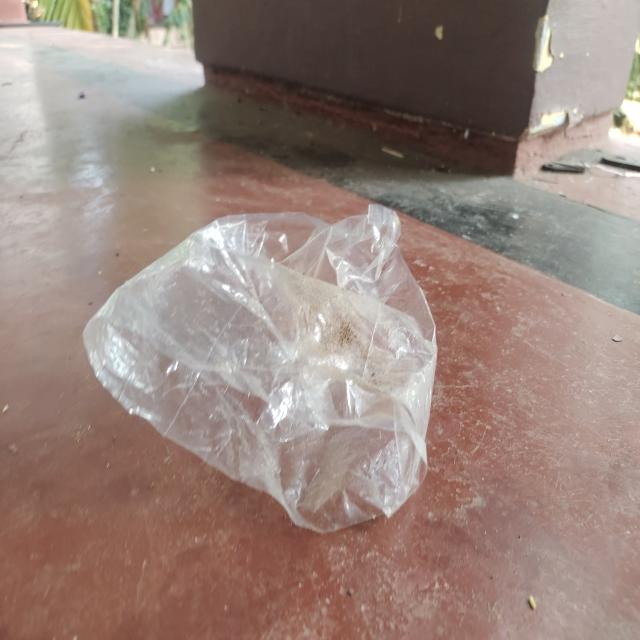plastic: (79, 198, 438, 536)
